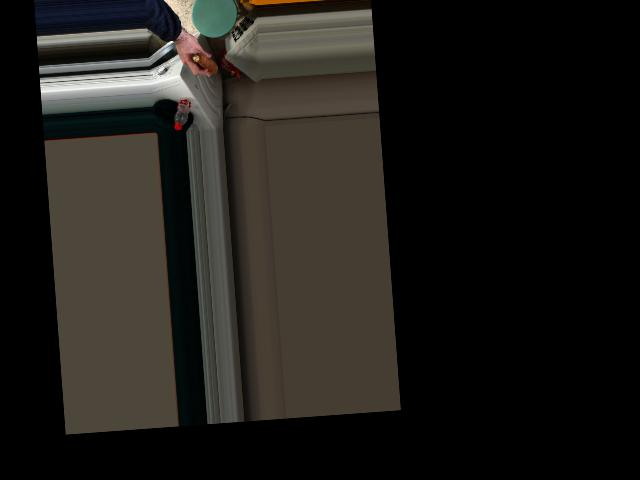sweet_potato: (189, 48, 217, 78)
